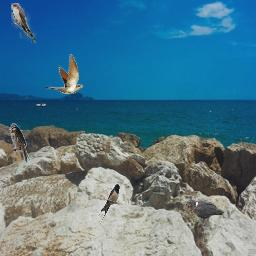Crow: (185, 199, 225, 226)
Cuckoo: (45, 54, 83, 94), (11, 3, 36, 43)
Sparrow: (9, 123, 31, 163)
Swallow: (95, 184, 120, 224)
